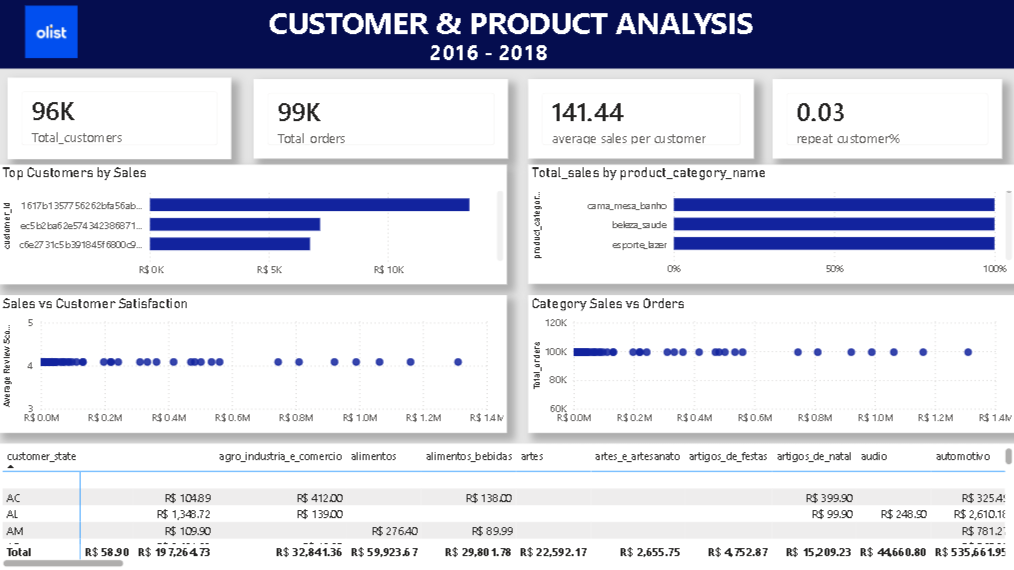

What the dashboard file says about the page in this screenshot:
{"tool":"tableau","page":{"name":"Dashboard 1","canvas":[1000,1000],"units":"permille","ordinal":0},"visuals":[{"type":"worksheet","title":"slicers","mark":"Automatic","cols":["order_purchase_timestamp"],"box":[787.5,13.7,214.3,104.2]},{"type":"text","box":[7.2,14.9,985.5,105.5]},{"type":"image","param":"D:/OLIST-Ecommerce project/o list logo.png","box":[26.5,21.1,44,88.1]},{"type":"worksheet","title":"KPIs","mark":"Automatic","box":[62.7,98,847,134]},{"type":"text","box":[873.2,238.2,93.2,79.4]},{"type":"worksheet","title":"Sheet 11","mark":"Automatic","box":[738.1,249.4,258.9,404.5]},{"type":"worksheet","title":"Sheet 8","mark":"Line","rows":["price"],"cols":["order_purchase_timestamp"],"box":[413,250.6,324.5,382.1]},{"type":"worksheet","title":"Sheet 1","mark":"Automatic","rows":["customer_state"],"cols":["order_id"],"box":[0,253.1,412.4,387.1]}]}

Visuals, with their boxes on the dashboard's canvas, which has no fixed pixel size, in thousandths of its width and height (x1, y1, x2, y2). These are canvas units, not pixel positions in the 1014x570 screenshot, which may show the page scaled, cropped or inside an application window:
"slicers" worksheet: l=788, t=14, r=1002, b=118
text: l=7, t=15, r=993, b=120
image: l=26, t=21, r=70, b=109
"KPIs" worksheet: l=63, t=98, r=910, b=232
text: l=873, t=238, r=966, b=318
"Sheet 11" worksheet: l=738, t=249, r=997, b=654
"Sheet 8" worksheet (Line marks): l=413, t=251, r=738, b=633
"Sheet 1" worksheet: l=0, t=253, r=412, b=640
